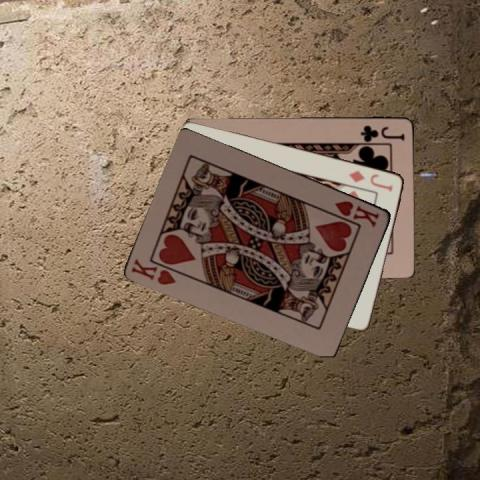Jc: (358, 122, 406, 141)
Jd: (346, 167, 395, 193)
Kh: (331, 197, 382, 229), (128, 255, 179, 286)
